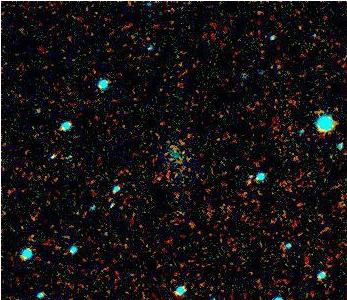star: (231, 169, 261, 199)
